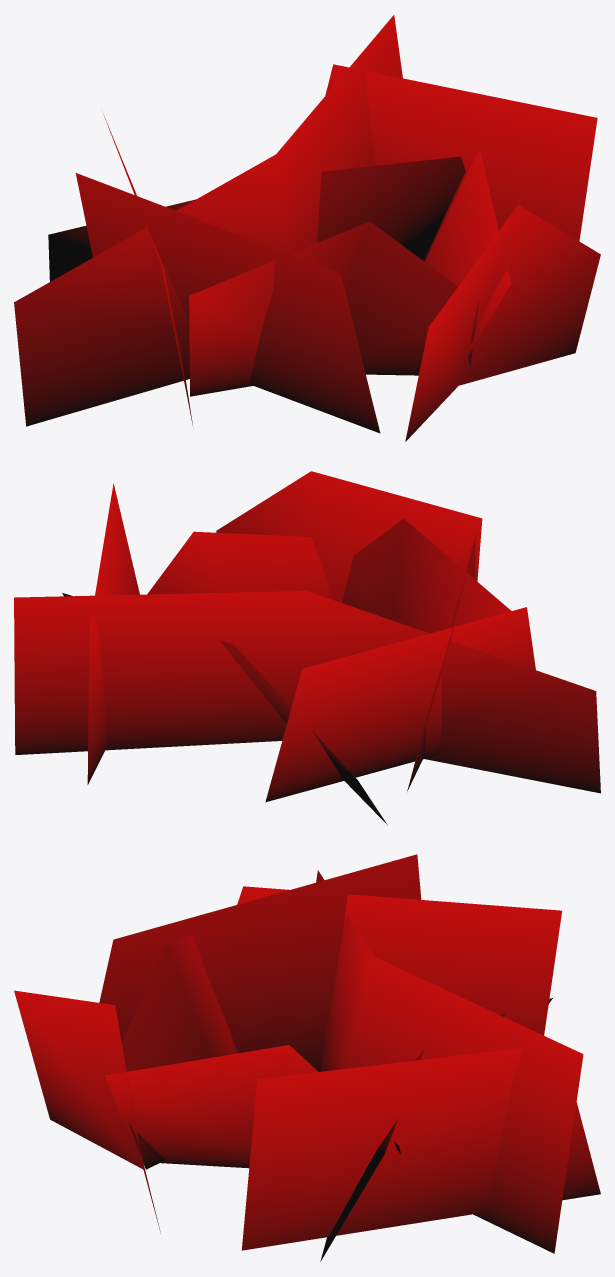
The model's file is SavannaGrass1.fbx.
3 renders of one model, top to bottom at view 1: azimuth 30°, elevation 25°; view 2: azimuth 150°, elevation 25°; view 3: azimuth 270°, elevation 25°, orthographic. The views are drawn at different scales.
Parts seen in each view (by area): view 1: SavannaGrass1; view 2: SavannaGrass1; view 3: SavannaGrass1.
Part boxes in pixels (x1,y1,x2,y2): SavannaGrass1: (14, 15, 600, 441); SavannaGrass1: (14, 471, 600, 825); SavannaGrass1: (14, 854, 600, 1261).
Size of the model in its own units: 95.97 by 31.56 by 84.13.
